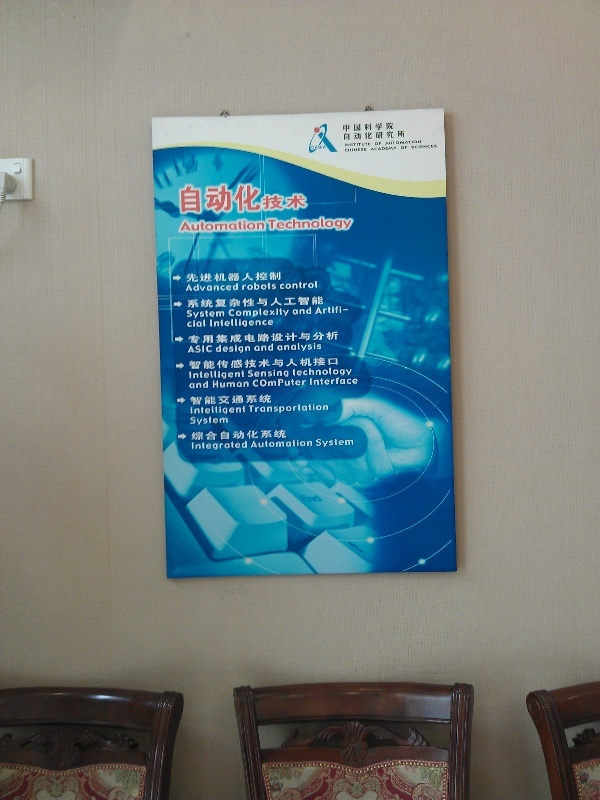text: (193, 183, 208, 214), (209, 183, 224, 214), (225, 183, 240, 214), (241, 183, 256, 214), (257, 183, 272, 214), (273, 183, 288, 214), (289, 183, 304, 214), (179, 183, 192, 214), (273, 217, 288, 232), (289, 217, 304, 232), (305, 217, 320, 232), (321, 217, 336, 232), (337, 217, 352, 232), (193, 219, 208, 233), (209, 219, 224, 233), (225, 219, 240, 233), (241, 219, 256, 233), (193, 331, 208, 345), (209, 331, 224, 345), (225, 331, 240, 345), (241, 331, 256, 345), (257, 331, 272, 345), (273, 331, 288, 345), (289, 331, 304, 345), (305, 331, 320, 345), (321, 331, 336, 345), (193, 271, 208, 284), (209, 271, 224, 284), (225, 271, 240, 284), (241, 271, 256, 284), (257, 271, 272, 284), (193, 296, 208, 309), (209, 296, 224, 309), (225, 296, 240, 309), (241, 296, 256, 309), (257, 296, 272, 309), (273, 296, 288, 309), (289, 296, 304, 309), (305, 296, 320, 309), (193, 357, 208, 370), (209, 357, 224, 370), (225, 357, 240, 370), (241, 357, 256, 370), (257, 357, 272, 370), (273, 357, 288, 370), (289, 357, 304, 370), (305, 357, 320, 370), (321, 357, 336, 370), (193, 429, 208, 441), (209, 429, 224, 441), (225, 429, 240, 441), (241, 429, 256, 441), (257, 429, 272, 441), (241, 307, 256, 319), (257, 307, 272, 319), (273, 307, 288, 319), (257, 368, 272, 380), (273, 368, 288, 380), (337, 367, 353, 378), (257, 395, 273, 406), (180, 219, 192, 233), (273, 429, 287, 441), (353, 130, 368, 141), (369, 130, 384, 141), (385, 130, 400, 141), (193, 282, 208, 293), (209, 282, 224, 293), (225, 318, 240, 329), (241, 318, 256, 329), (257, 318, 272, 329), (305, 367, 320, 378), (321, 367, 336, 378), (193, 395, 208, 406), (209, 395, 224, 406), (225, 395, 240, 406), (241, 395, 256, 406), (193, 405, 208, 416), (209, 405, 224, 416), (225, 405, 240, 416), (193, 441, 208, 452), (209, 441, 224, 452), (225, 441, 240, 452), (289, 342, 304, 353), (305, 342, 320, 353), (193, 370, 208, 381), (209, 370, 224, 381), (225, 370, 240, 381), (257, 378, 272, 389), (273, 378, 288, 389), (289, 378, 304, 389), (321, 376, 336, 387), (337, 376, 352, 387), (321, 438, 336, 449), (337, 438, 352, 449), (225, 282, 239, 293), (210, 318, 224, 329), (193, 416, 208, 426), (209, 416, 224, 426), (321, 306, 336, 316), (225, 344, 240, 354), (257, 403, 272, 413), (273, 403, 288, 413), (289, 403, 304, 413), (305, 403, 320, 413), (257, 439, 272, 449), (273, 439, 288, 449), (289, 439, 304, 449), (193, 310, 208, 319), (209, 310, 224, 319), (193, 346, 208, 355), (193, 381, 208, 390), (353, 123, 368, 132), (369, 123, 384, 132), (257, 282, 272, 291), (289, 281, 304, 290), (225, 380, 240, 389), (292, 367, 304, 378), (229, 307, 240, 319), (273, 271, 283, 284), (242, 282, 256, 291), (305, 281, 319, 290), (193, 320, 207, 329), (277, 342, 288, 353), (257, 344, 272, 352), (257, 219, 265, 233), (241, 344, 252, 354), (310, 376, 320, 387), (292, 307, 304, 316), (343, 130, 352, 141), (385, 123, 396, 132), (213, 380, 224, 389), (248, 368, 256, 380), (185, 271, 192, 284), (353, 142, 368, 148), (385, 140, 400, 146), (401, 140, 416, 146), (417, 144, 432, 150), (215, 344, 224, 354), (241, 441, 249, 452), (370, 146, 384, 152), (343, 123, 352, 132), (279, 281, 288, 290), (241, 380, 250, 389), (321, 403, 329, 413), (305, 439, 313, 449), (385, 146, 398, 152), (185, 282, 192, 293), (353, 148, 368, 153), (267, 217, 272, 232), (305, 307, 313, 316), (249, 403, 256, 413), (241, 405, 247, 416), (353, 376, 359, 387), (187, 296, 192, 309), (305, 183, 307, 214), (401, 146, 416, 150), (337, 306, 343, 316), (188, 331, 192, 345), (401, 130, 406, 141), (186, 310, 192, 319), (186, 320, 192, 329), (321, 296, 325, 309), (188, 357, 192, 370), (315, 306, 320, 316), (251, 439, 256, 449), (344, 142, 352, 148), (187, 346, 192, 355), (241, 370, 245, 381), (252, 378, 256, 389), (316, 438, 320, 449), (337, 331, 340, 345), (209, 346, 213, 355), (375, 142, 384, 146), (273, 282, 277, 291), (345, 148, 352, 153), (189, 395, 192, 406), (189, 370, 192, 381), (189, 416, 192, 426), (225, 416, 228, 426), (417, 140, 422, 146), (411, 144, 416, 150), (433, 144, 438, 150), (189, 381, 192, 390), (311, 146, 320, 149), (343, 309, 352, 312), (337, 357, 339, 370), (190, 405, 192, 416), (305, 378, 307, 389), (353, 438, 355, 449), (321, 146, 327, 149), (254, 344, 256, 352), (273, 344, 275, 352), (353, 217, 354, 232), (191, 429, 192, 441), (369, 142, 371, 148), (289, 307, 290, 319), (289, 368, 290, 380), (273, 318, 274, 329), (191, 441, 192, 452), (321, 342, 322, 353), (225, 310, 226, 319), (209, 381, 210, 390)
